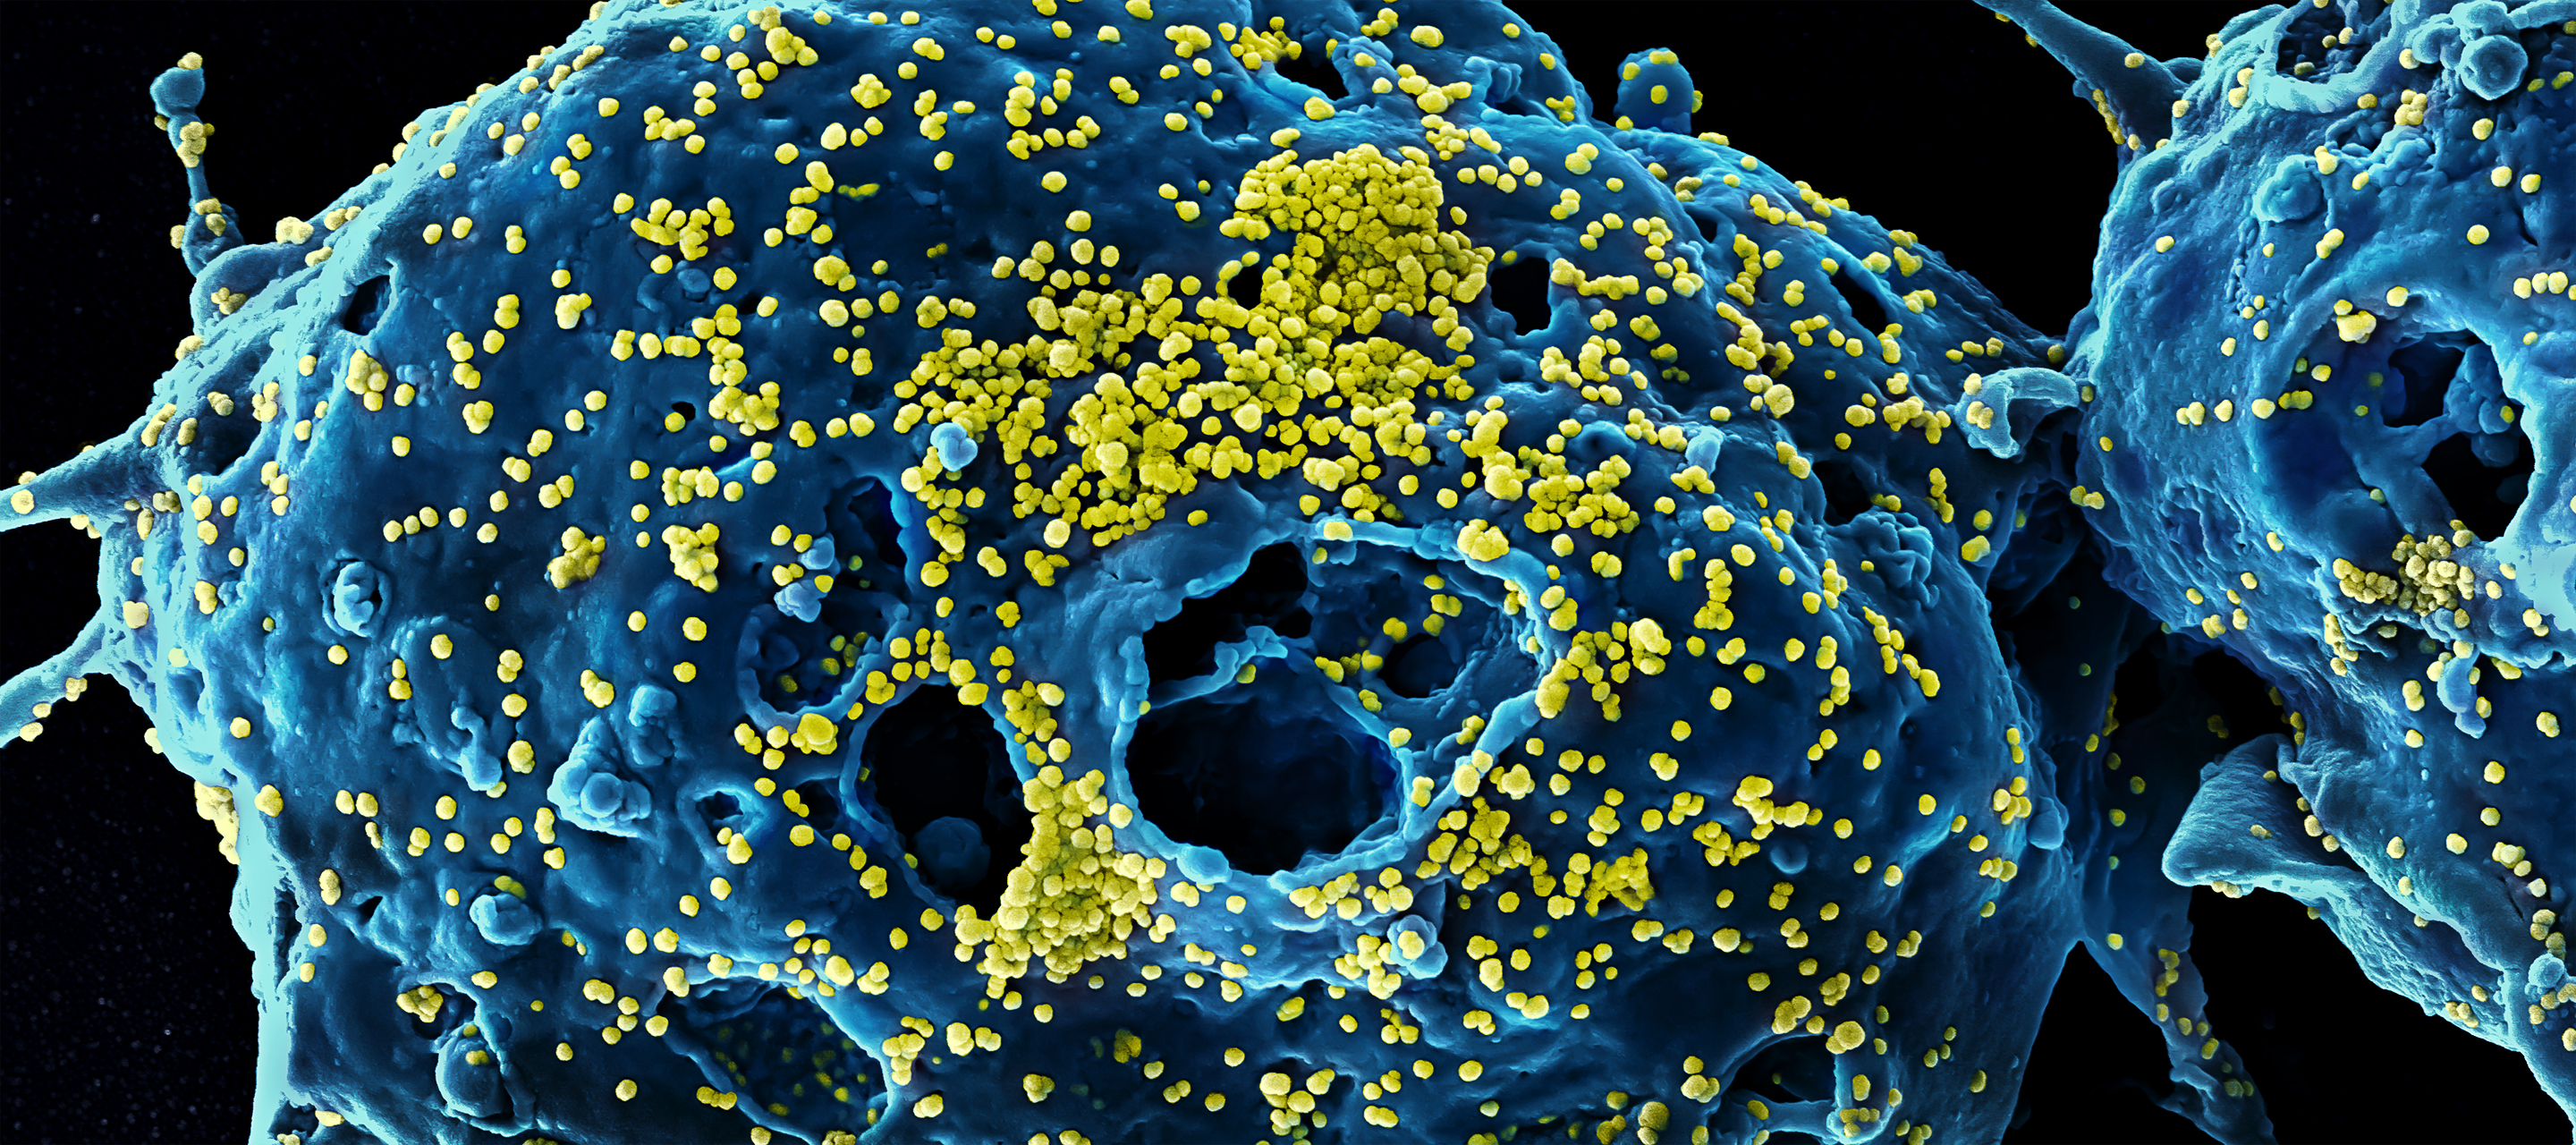COVID19: (495, 95, 1879, 851)
